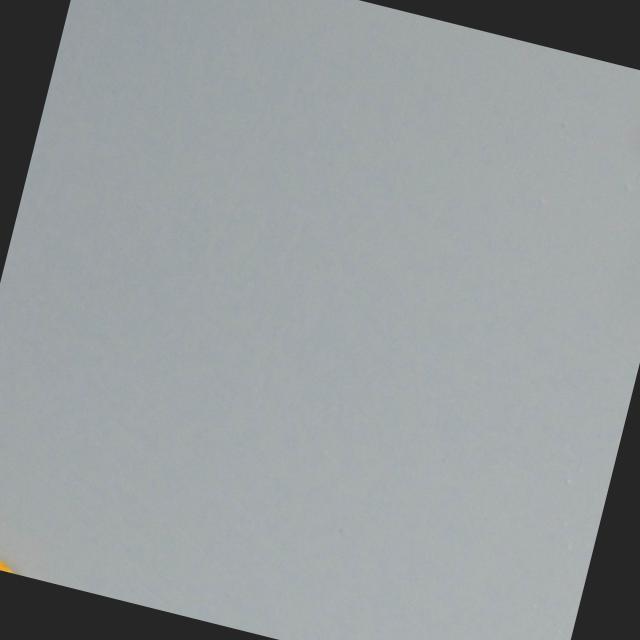dañado: (0, 545, 34, 577)
